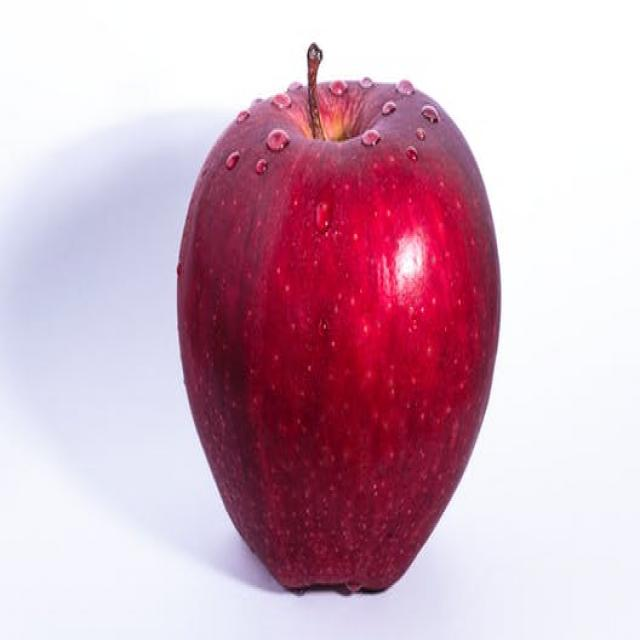apple: (174, 68, 505, 601)
